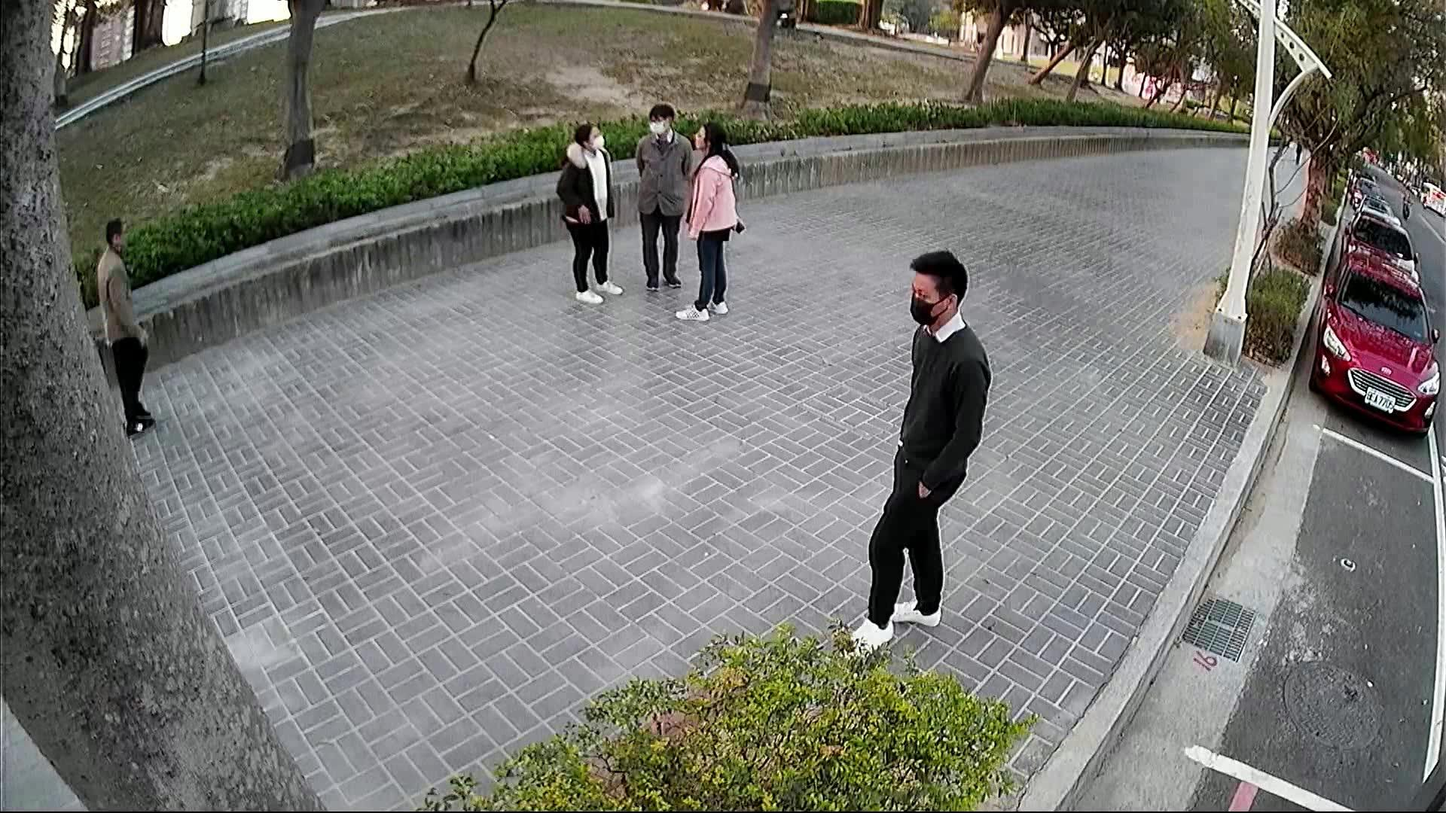person: (831, 242, 995, 665), (668, 112, 749, 327), (92, 207, 160, 443), (551, 116, 624, 307), (631, 99, 694, 294)
